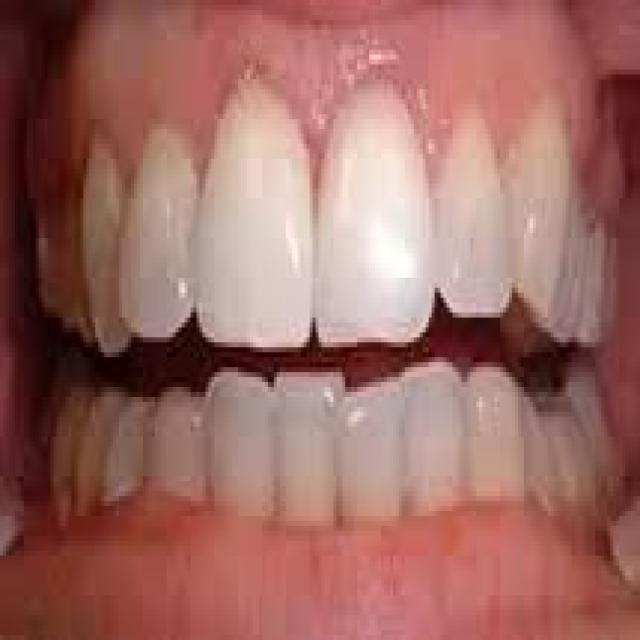tooth: (309, 50, 432, 352), (200, 50, 316, 347), (432, 75, 509, 332), (122, 114, 197, 342), (21, 134, 92, 347), (503, 99, 566, 323), (77, 114, 131, 362), (205, 367, 277, 526), (399, 362, 470, 506), (336, 387, 414, 516), (280, 377, 336, 521), (143, 367, 205, 496), (470, 367, 527, 501), (572, 218, 619, 352), (556, 164, 586, 362), (74, 387, 125, 501), (104, 377, 146, 501), (51, 387, 95, 501), (527, 397, 568, 506), (554, 412, 601, 491), (563, 372, 607, 452), (36, 377, 68, 476)
